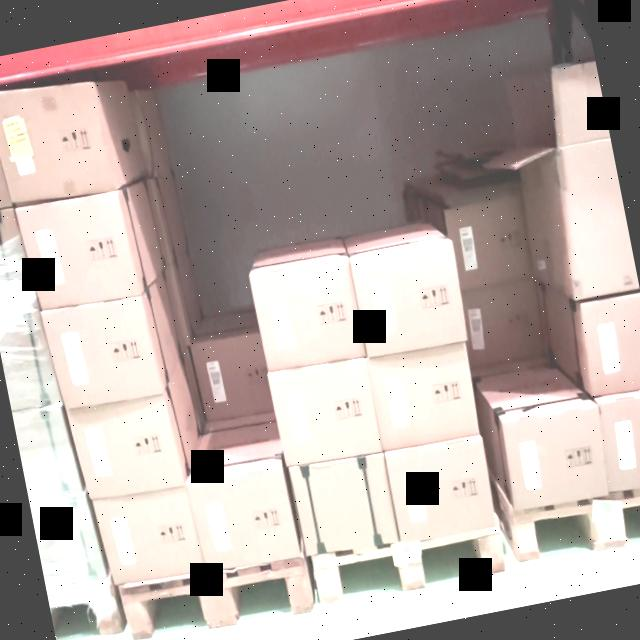box: (0, 81, 113, 206), (250, 256, 366, 372), (351, 240, 467, 356), (22, 192, 138, 308), (48, 294, 161, 409), (559, 137, 640, 297), (366, 341, 484, 450), (69, 392, 185, 502), (290, 452, 400, 562), (270, 358, 382, 464), (384, 438, 496, 540), (190, 468, 299, 570), (504, 406, 607, 509), (100, 486, 202, 586), (448, 193, 532, 288), (461, 280, 547, 370), (192, 332, 272, 421), (582, 295, 640, 395), (599, 392, 640, 491)
